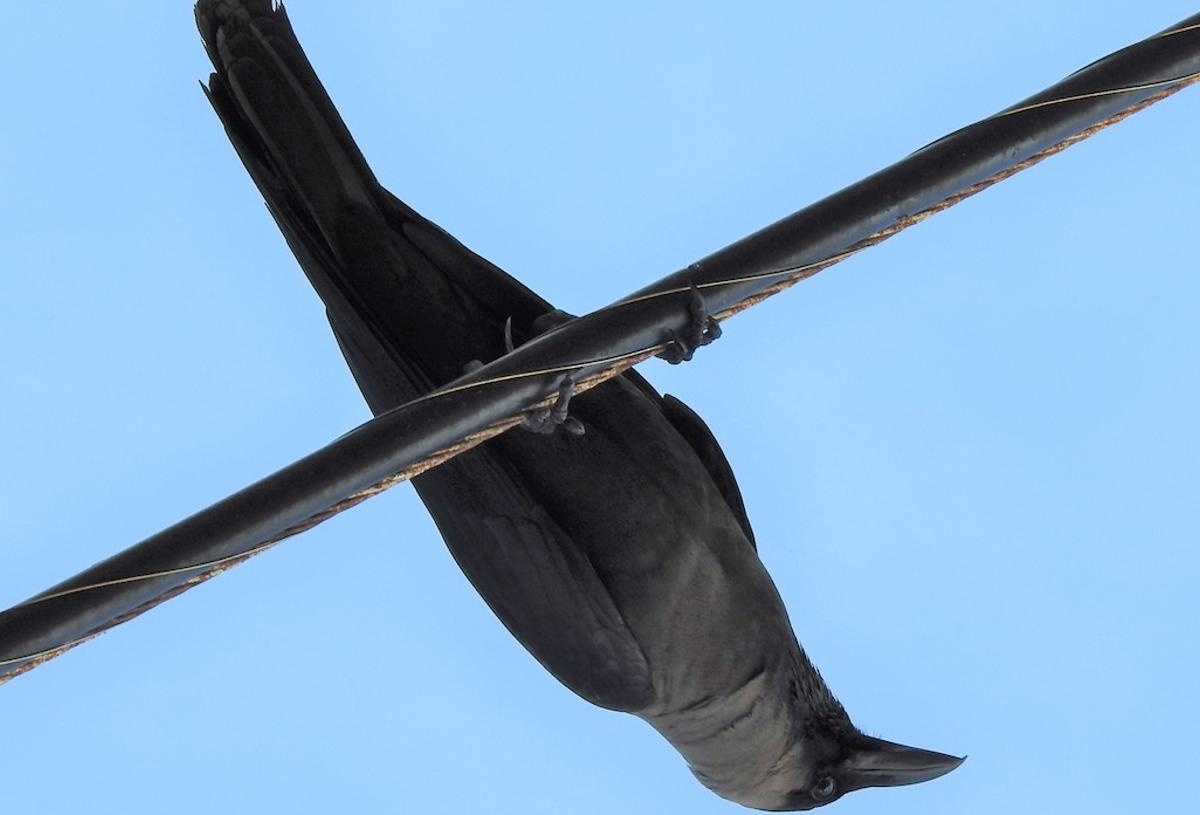crow: (148, 15, 988, 813)
